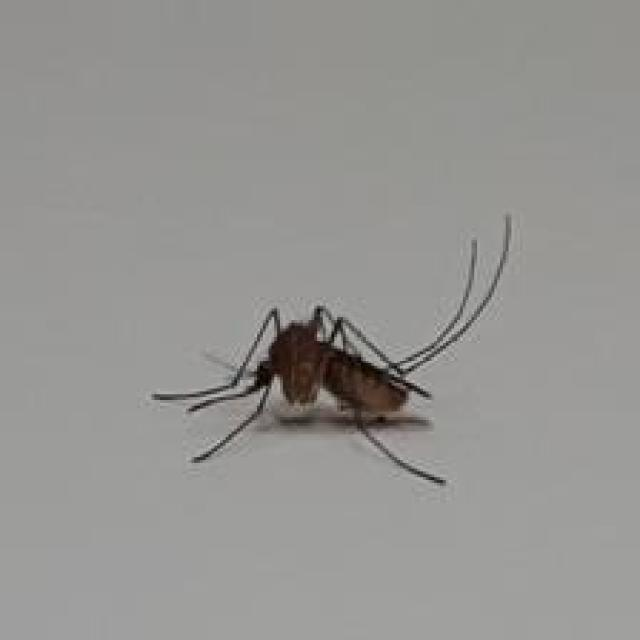Culex: (150, 213, 513, 487)
